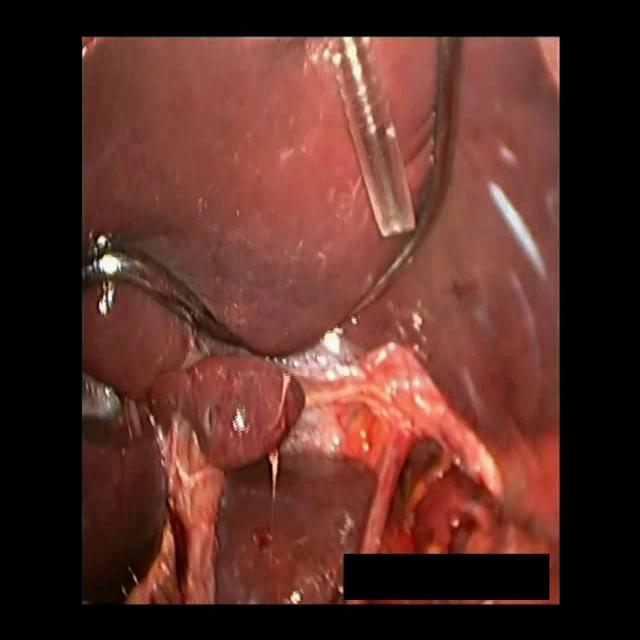surgical-area: (80, 34, 561, 604)
